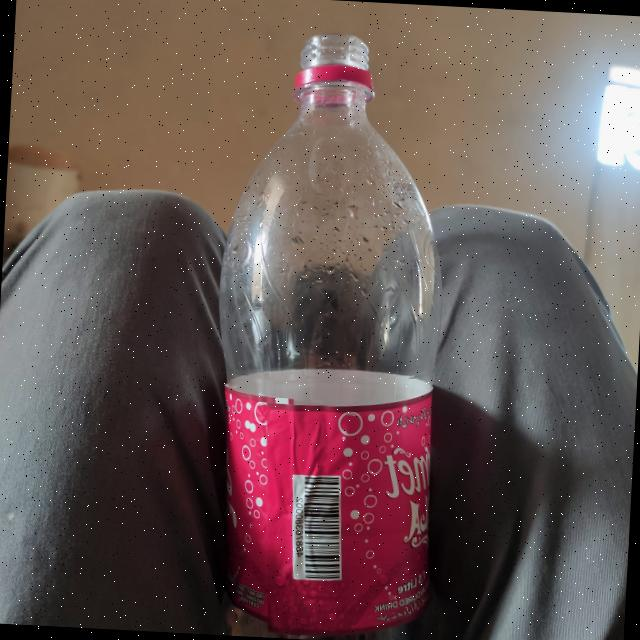bottle: (199, 23, 463, 640)
label: (228, 374, 433, 630)
